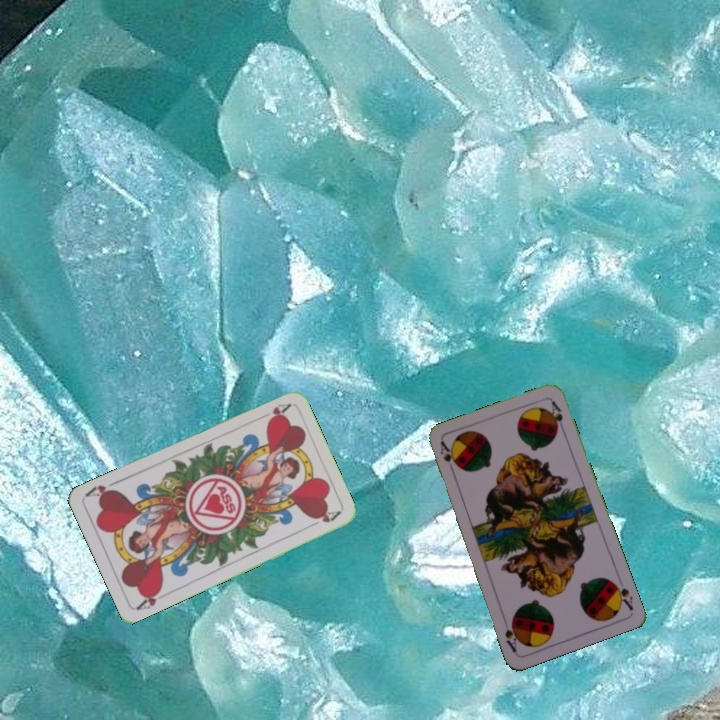HA: (133, 584, 171, 613), (254, 399, 293, 424)
SA: (608, 577, 636, 613), (436, 438, 458, 477)
